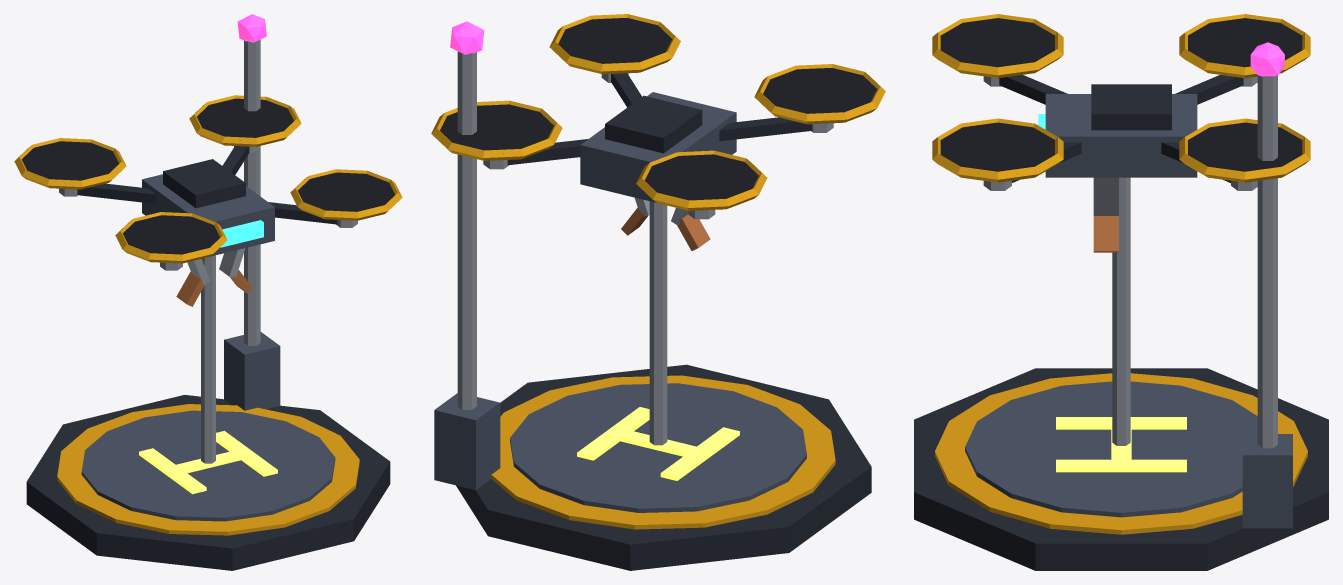
File: auto_harvester.glb
3 views of the same model, side by side, from view 1: azimuth 30°, elevation 25°; view 2: azimuth 150°, elevation 25°; view 3: azimuth 270°, elevation 25° (orthographic). The views are drawn at different scales.
Visible parts, largest first — view 1: auto_harvester; view 2: auto_harvester; view 3: auto_harvester.
Part boxes in pixels (<box>): auto_harvester: <box>14,14,402,570</box>; auto_harvester: <box>431,14,885,570</box>; auto_harvester: <box>914,14,1328,570</box>.
Size of the model in its own units: 0.8223 by 1.1 by 0.8223.
